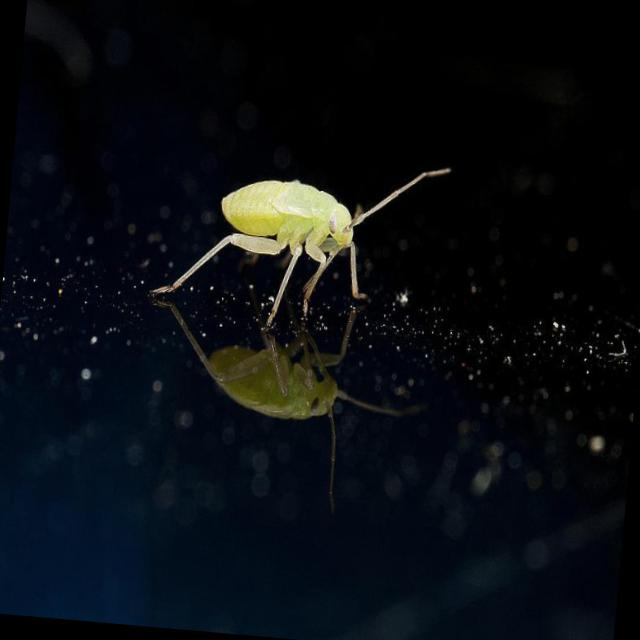Aphids: (150, 125, 466, 338)
